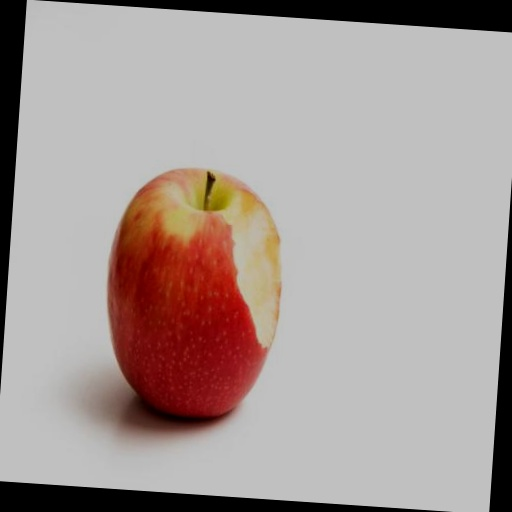fruit: (108, 169, 280, 417)
